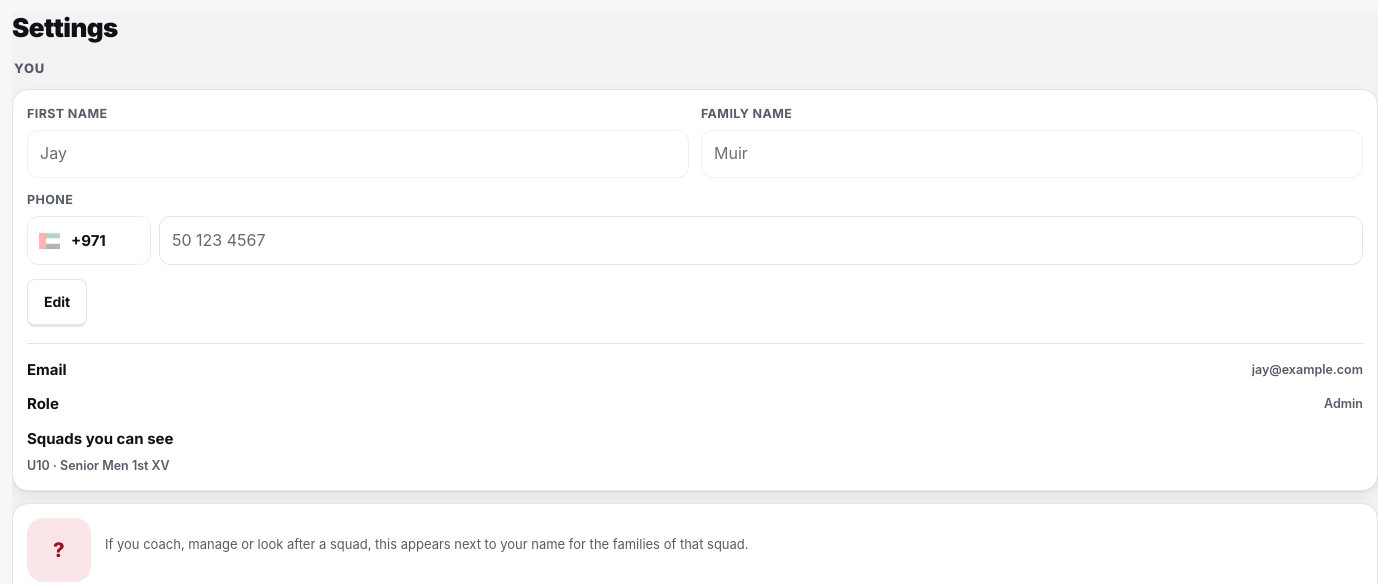
Test: More — the You card is editable › shows what went wrong when the save is refused
Click the button "Edit": (57, 303) top-left (27, 279), bottom-right (87, 327)
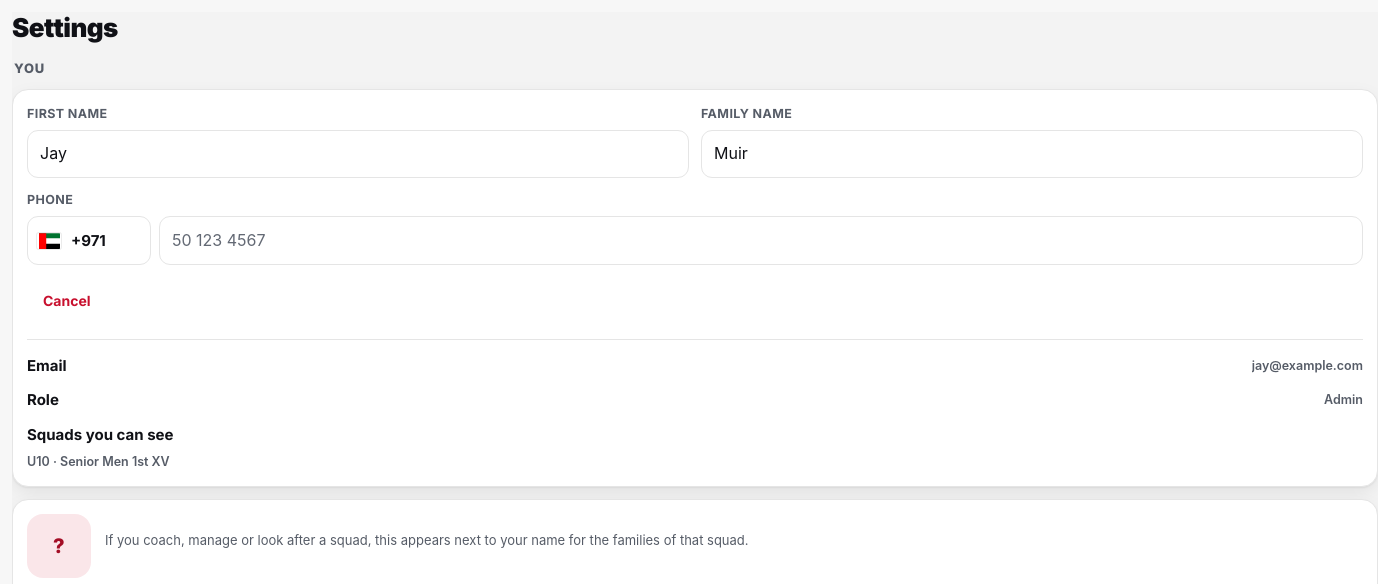
In the field showing "Jay": (358, 154) top-left (27, 130), bottom-right (689, 178), type "ne"
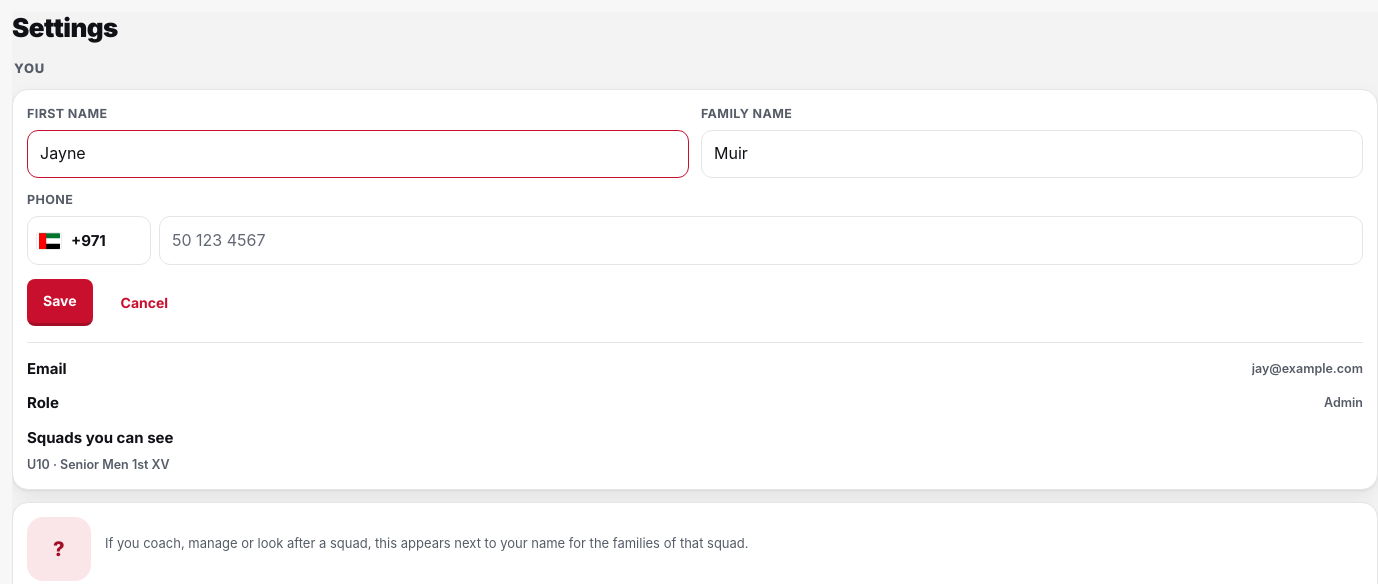
Click the button "Save": (60, 303) top-left (27, 279), bottom-right (92, 326)
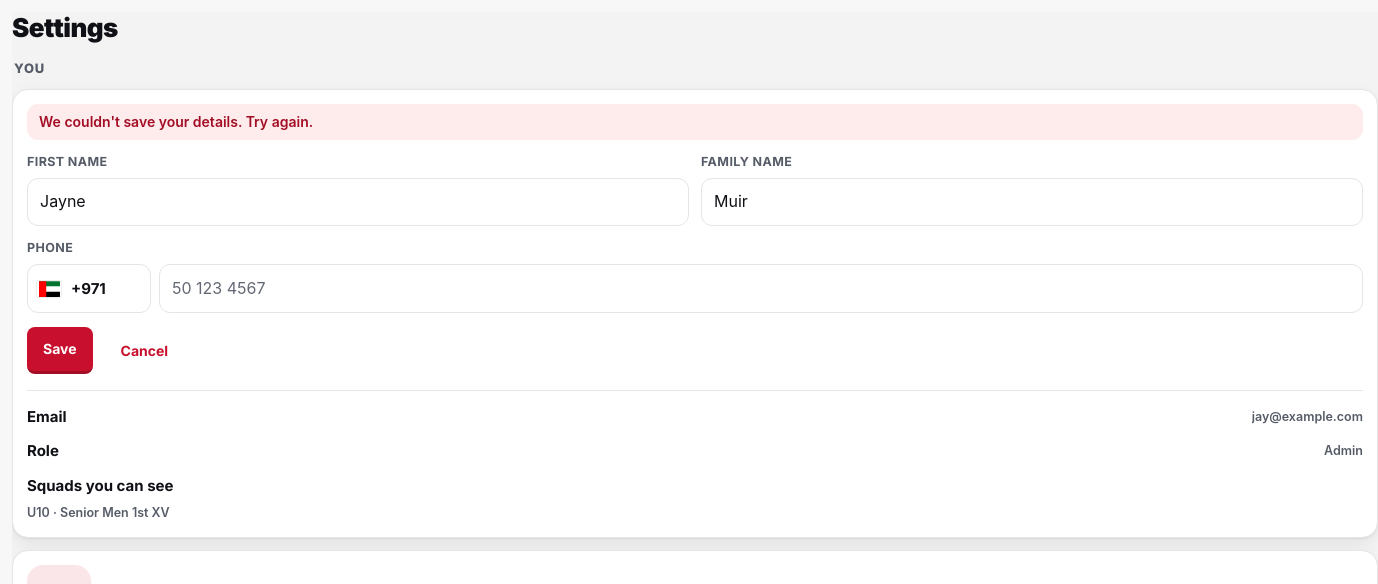
Result: the field labelled "First name" is enabled at top-left (27, 178), bottom-right (689, 226)
Result: the message shows "couldn't save your details" at top-left (39, 113), bottom-right (313, 130)
